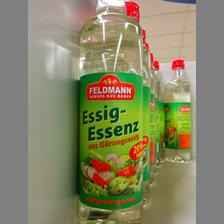Essig: (72, 0, 144, 222), (164, 58, 196, 162)
